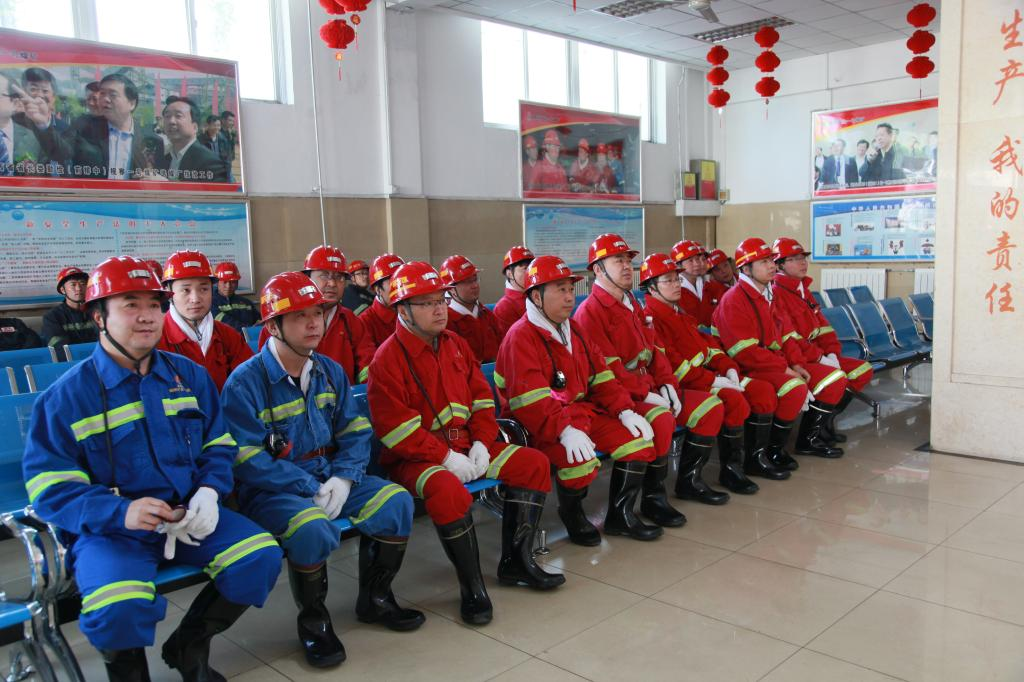helmet: (84, 250, 176, 355), (253, 270, 335, 357), (391, 263, 456, 340), (525, 255, 579, 329), (588, 236, 640, 295)
